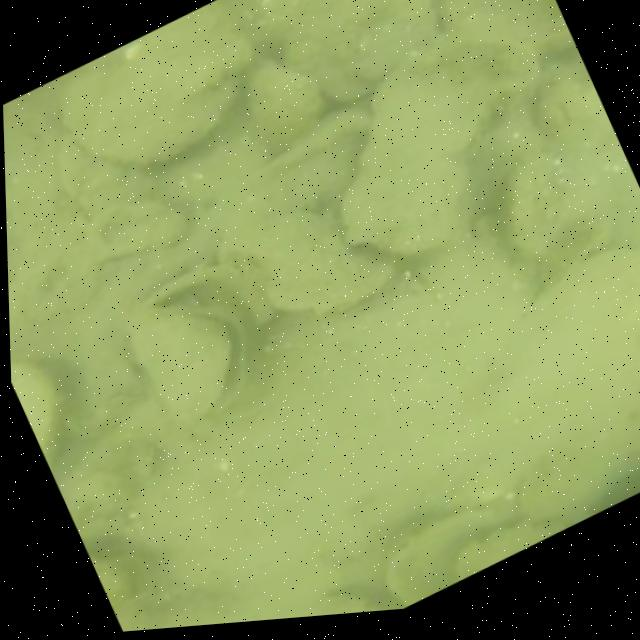Oyster-Indeterminate: (339, 44, 511, 256), (67, 16, 253, 165), (222, 212, 391, 312), (283, 0, 429, 92), (392, 504, 516, 609), (518, 439, 640, 520), (8, 241, 99, 324), (84, 197, 190, 262), (245, 62, 322, 147), (504, 157, 567, 252), (458, 521, 562, 578), (11, 362, 59, 461), (94, 562, 134, 603)
Oyster-Open: (128, 303, 255, 422)
